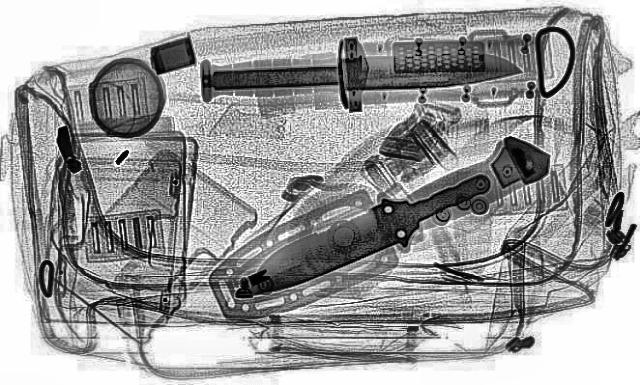Knife: (222, 164, 512, 298), (203, 50, 525, 92)
